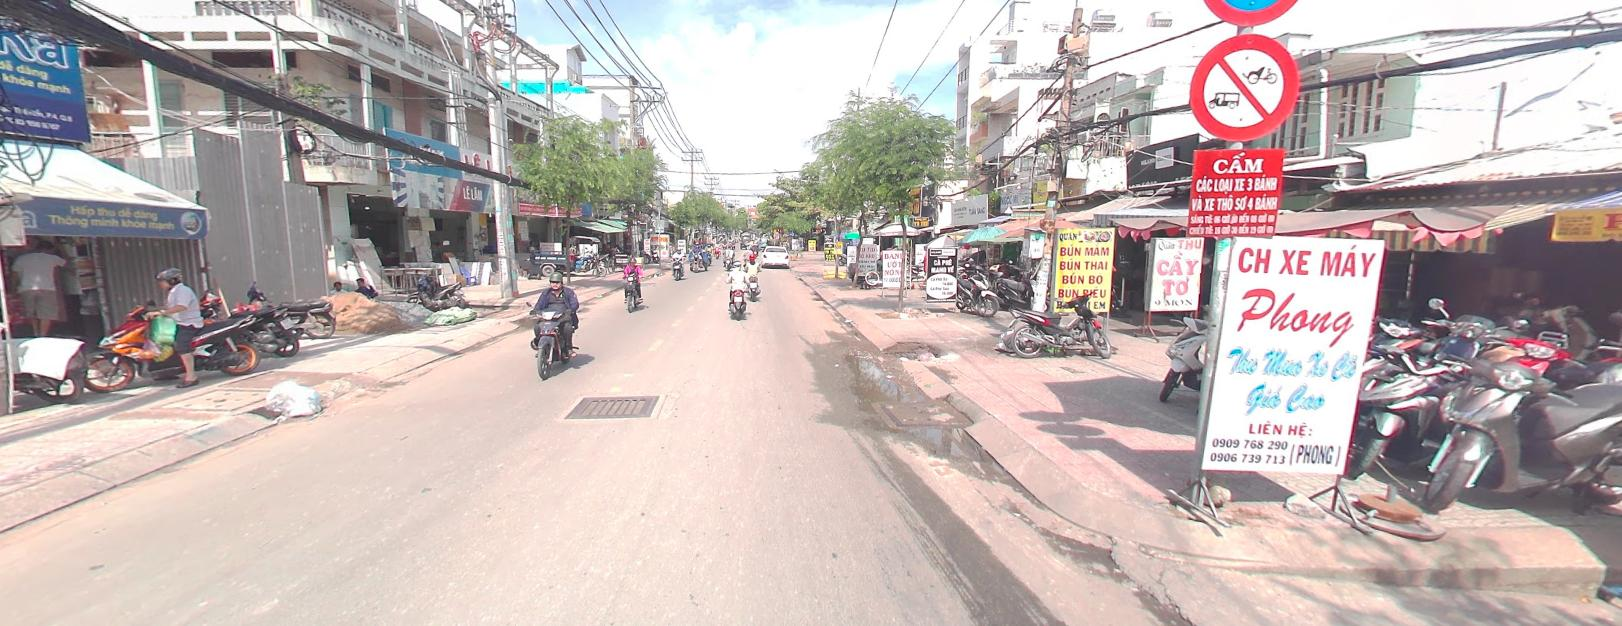Cam con lai: (1187, 37, 1303, 138)
Cam dung va do: (1195, 0, 1297, 29)
